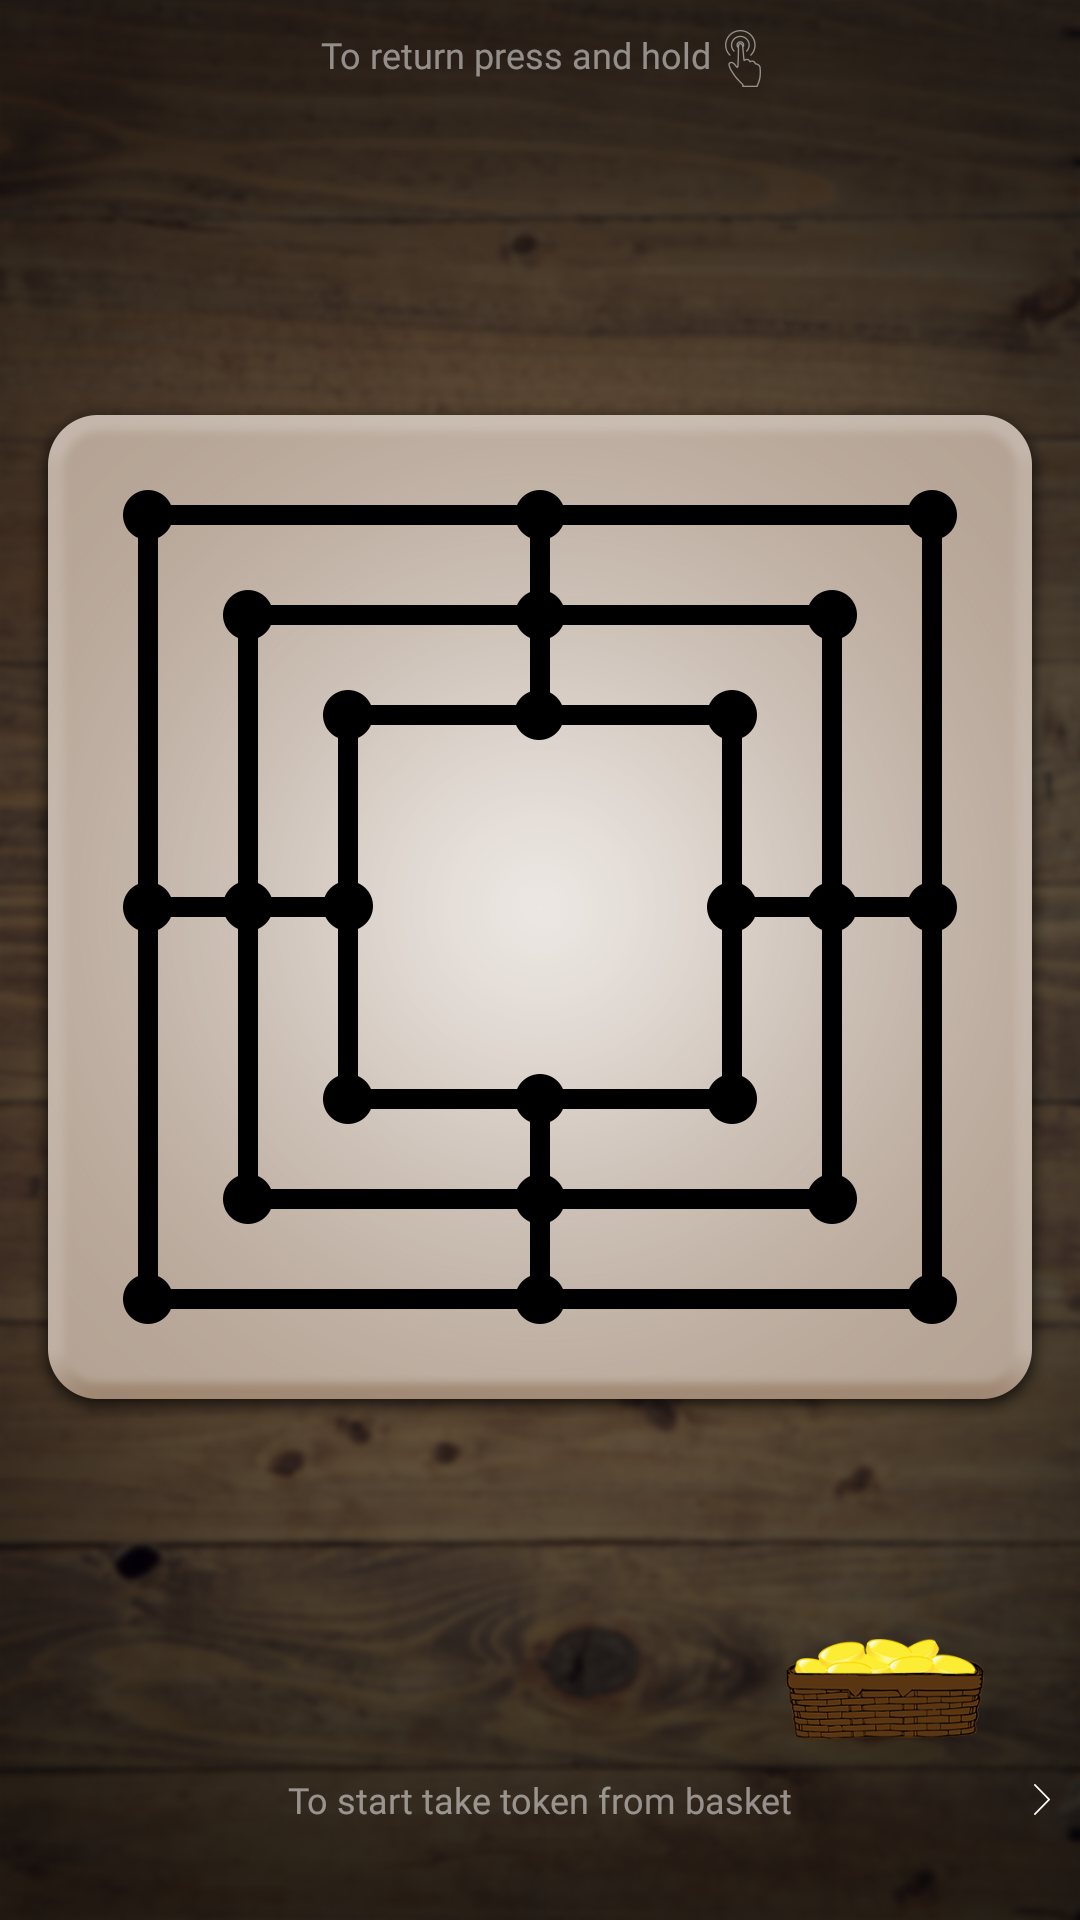

Where to tap for icons on this 1080×1920 app screen, as point (x, y):
touch: point (743, 58)
